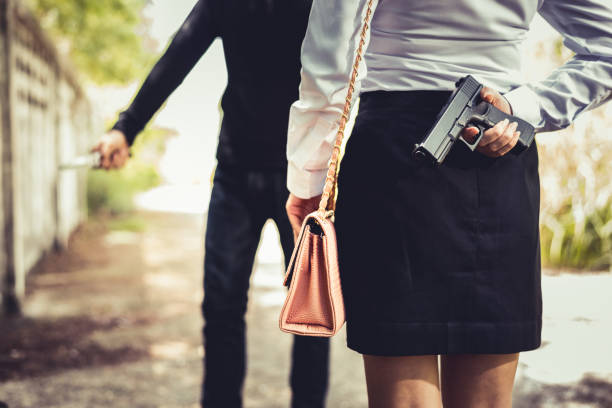gun: (413, 73, 538, 170)
knife: (59, 151, 135, 172)
